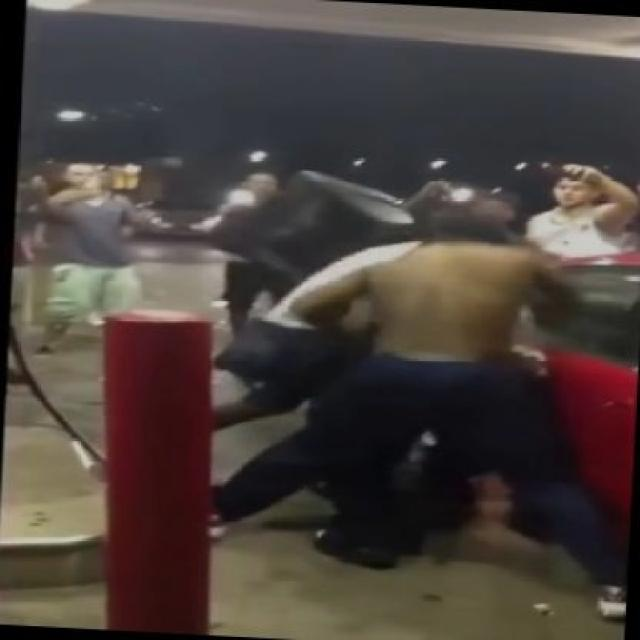fight: (160, 182, 624, 636)
